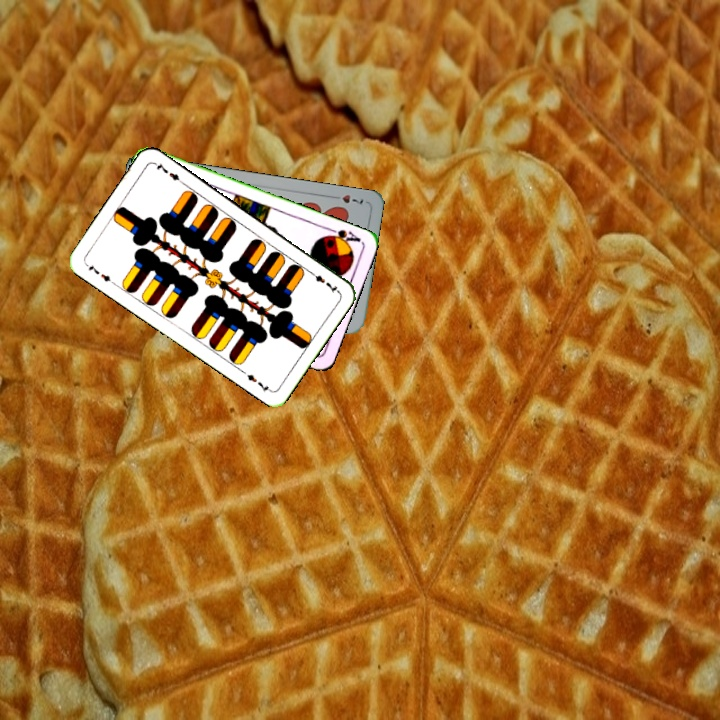E7: (305, 267, 341, 296), (82, 260, 118, 287)
H7: (327, 191, 366, 207)
SA: (321, 223, 363, 249)
